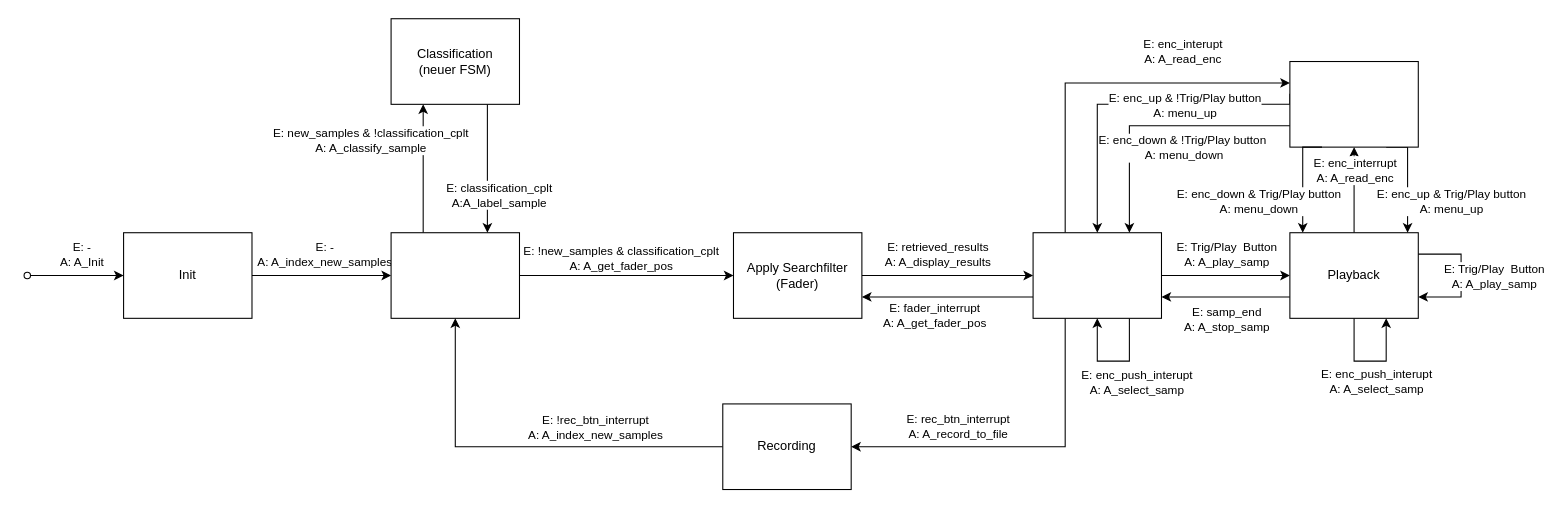
Image size: 1562x508. Some labels were removed from this diagram. Each missing label, with the centre of its shape:
Idle: (x=1096, y=275)
Indexing: (x=454, y=275)
Navigate Menu (Encoder): (x=1353, y=103)
